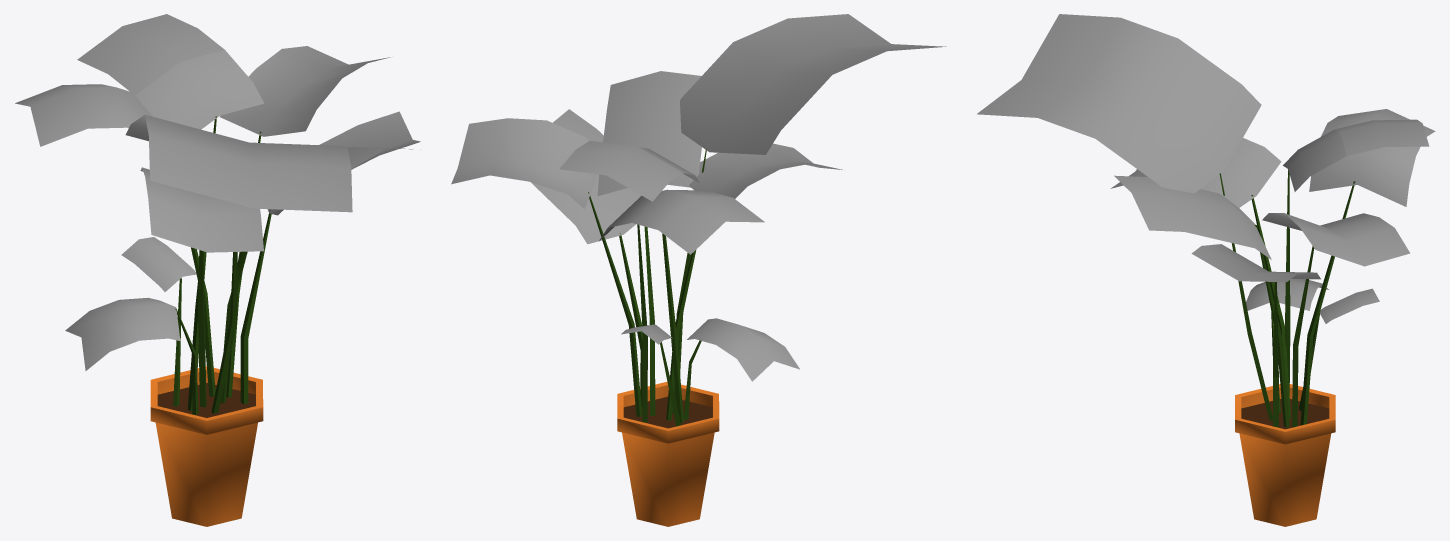
The model's file is planta_gran_definitiva.FBX.
3 views of the same model, side by side, from view 1: azimuth 30°, elevation 25°; view 2: azimuth 150°, elevation 25°; view 3: azimuth 270°, elevation 25° (orthographic). The views are drawn at different scales.
Parts seen in each view (by area): view 1: Cylinder001; view 2: Cylinder001; view 3: Cylinder001.
Boxes of the visible parts, x1,y1,x2,y2 form: Cylinder001: (15, 14, 420, 526); Cylinder001: (451, 14, 946, 526); Cylinder001: (977, 14, 1435, 526).
Size of the model in its own units: 18.46 by 21.84 by 21.21.
